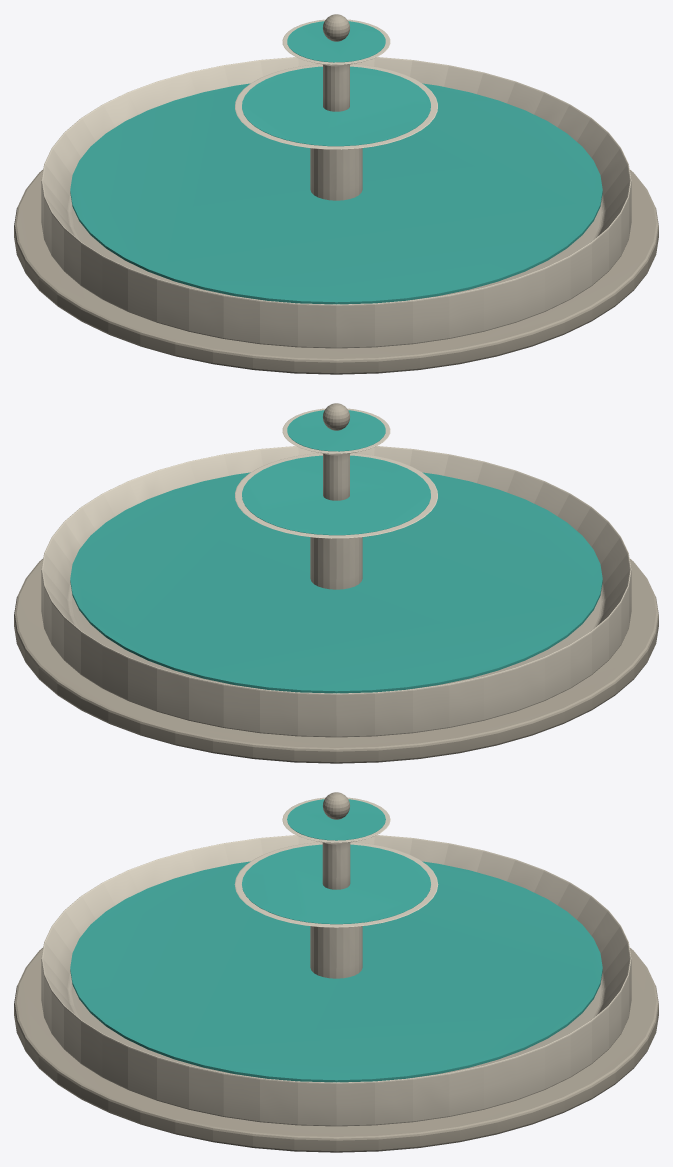
Rendered from fountain.glb.
The picture shows the model from 3 angles, top to bottom: view 1: azimuth 30°, elevation 25°; view 2: azimuth 150°, elevation 25°; view 3: azimuth 270°, elevation 25°; orthographic projection.
Parts seen in each view (by area): view 1: Water, basin, step, water1, water2, pillar, bowl1, pillar2, bowl2, finial; view 2: Water, basin, step, water1, water2, pillar, bowl1, pillar2, bowl2, finial; view 3: Water, basin, step, water1, water2, pillar, bowl1, pillar2, bowl2, finial.
Part boxes in pixels (bbox=[...]): Water: bbox=[70, 83, 602, 304]; basin: bbox=[41, 57, 631, 348]; step: bbox=[14, 169, 658, 374]; water1: bbox=[242, 66, 430, 146]; water2: bbox=[287, 21, 385, 62]; pillar: bbox=[310, 148, 362, 200]; bowl1: bbox=[235, 64, 437, 149]; pillar2: bbox=[323, 64, 349, 111]; bowl2: bbox=[282, 19, 390, 66]; finial: bbox=[323, 14, 349, 41]; Water: bbox=[70, 472, 602, 693]; basin: bbox=[41, 446, 631, 737]; step: bbox=[14, 558, 658, 763]; water1: bbox=[242, 455, 430, 535]; water2: bbox=[287, 410, 385, 451]; pillar: bbox=[310, 537, 362, 589]; bowl1: bbox=[235, 453, 437, 538]; pillar2: bbox=[323, 453, 349, 500]; bowl2: bbox=[282, 408, 390, 455]; finial: bbox=[323, 403, 349, 430]; Water: bbox=[70, 861, 602, 1082]; basin: bbox=[41, 835, 631, 1126]; step: bbox=[14, 947, 658, 1152]; water1: bbox=[242, 844, 430, 924]; water2: bbox=[287, 799, 385, 840]; pillar: bbox=[310, 926, 362, 978]; bowl1: bbox=[234, 842, 438, 927]; pillar2: bbox=[322, 842, 350, 889]; bowl2: bbox=[282, 797, 390, 844]; finial: bbox=[323, 792, 349, 819].
Size of the model in its own units: 9.4 by 3.6 by 9.4.
